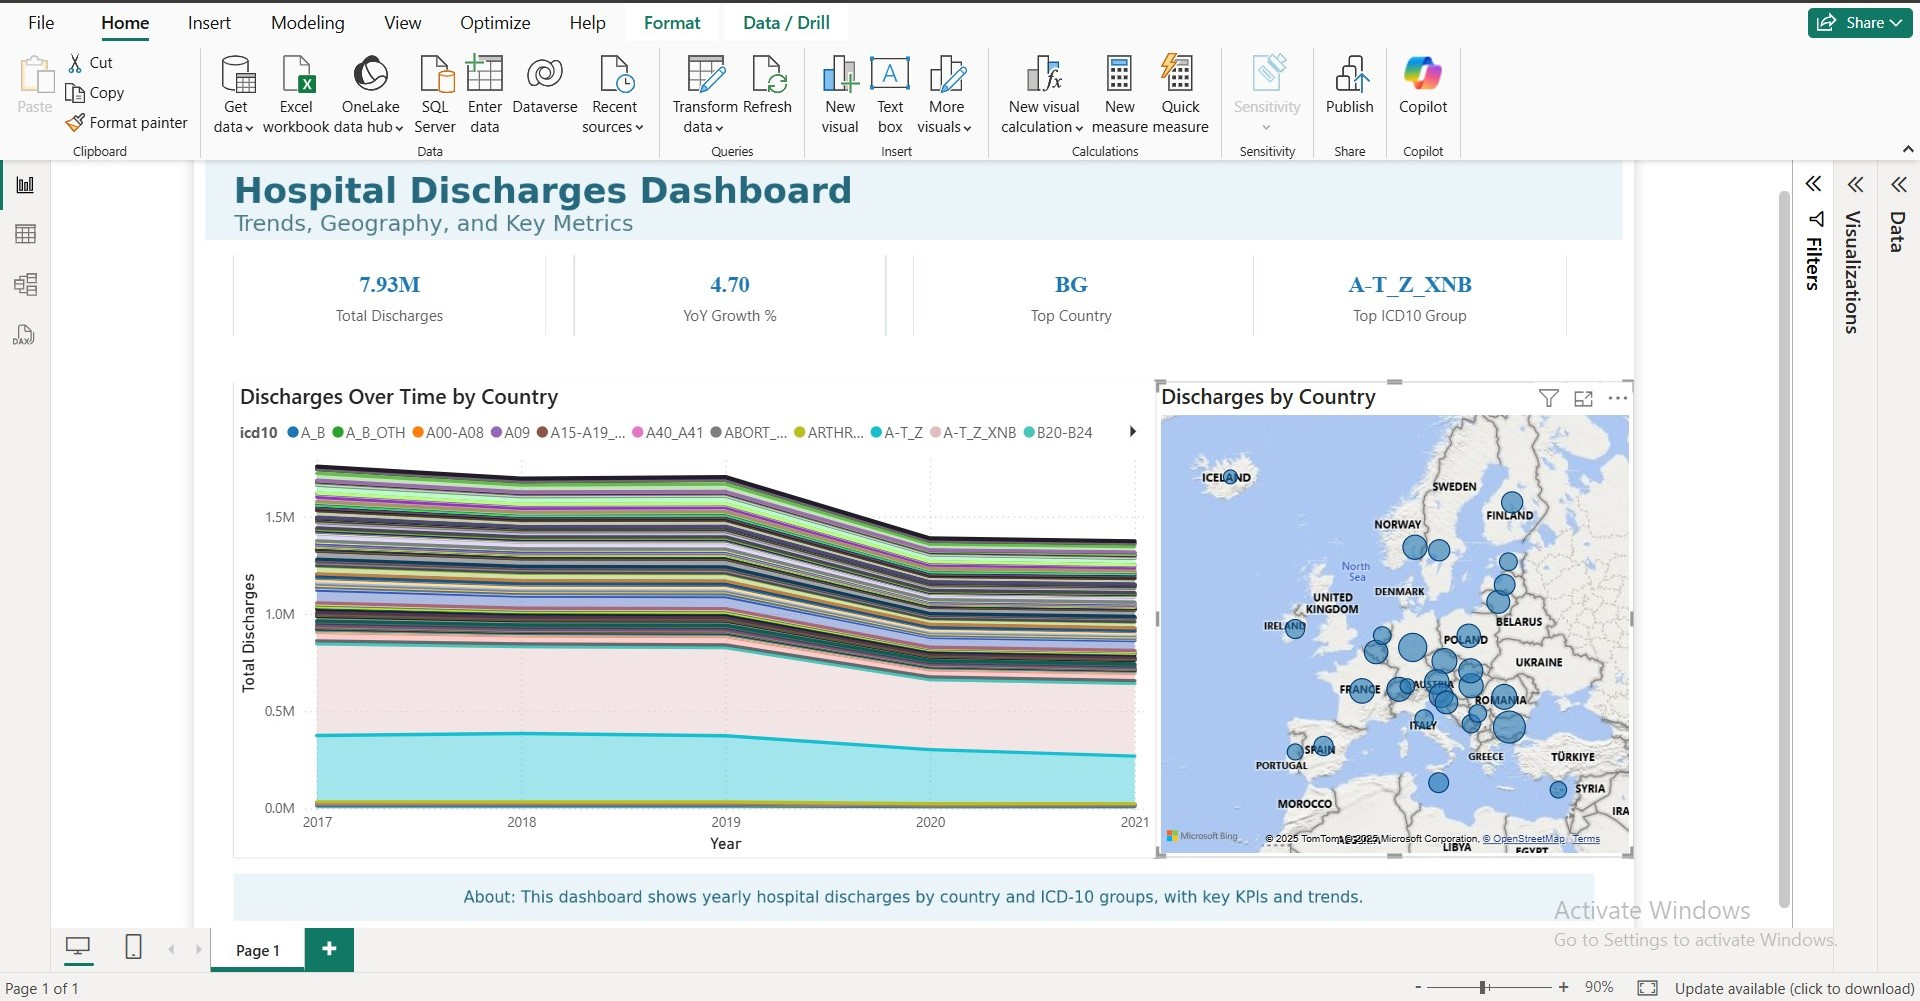

Layout of this report page (visuals, bound fields, positions):
{"tool":"powerbi","page":{"name":"Page 1","canvas":[1280,720],"ordinal":0},"visuals":[{"type":"card","fields":{"Values":["hospital_discharges_clean.Total Discharges"]},"box":[35.6,98.9,276.7,81.1],"z":0},{"type":"card","fields":{"Values":["hospital_discharges_clean.Top Country"]},"box":[640,98.9,280,81.1],"z":1000},{"type":"card","fields":{"Values":["Date.Top ICD10 Group"]},"box":[942.2,98.9,277.8,81.1],"z":2000},{"type":"card","fields":{"Values":["hospital_discharges_clean.Total Discharges YoY % (quick)"]},"box":[338.9,98.9,275.6,81.1],"z":3000},{"type":"map","title":"Discharges by Country","fields":{"Category":["hospital_discharges_clean.geo"],"Size":["hospital_discharges_clean.Total Discharges"]},"box":[854.4,215.6,425.6,423.3],"z":4000},{"type":"stackedAreaChart","title":"Discharges Over Time by Country","fields":{"Category":["Date.Date.Variation.Date Hierarchy.Year"],"Series":["hospital_discharges_clean.icd10"],"Y":["hospital_discharges_clean.Total Discharges"]},"box":[35.6,215.6,818.9,423.3],"z":5000}]}

Visuals, with their boxes on the page's 1280x720 design canvas (x1, y1, x2, y2). These are canvas units, not pixel positions in the 1920x1001 screenshot, which may show the page scaled, cropped or inside an application window:
card - hospital_discharges_clean.Total Discharges: {"x1": 36, "y1": 99, "x2": 312, "y2": 180}
card - hospital_discharges_clean.Top Country: {"x1": 640, "y1": 99, "x2": 920, "y2": 180}
card - Date.Top ICD10 Group: {"x1": 942, "y1": 99, "x2": 1220, "y2": 180}
card - hospital_discharges_clean.Total Discharges YoY % (quick): {"x1": 339, "y1": 99, "x2": 614, "y2": 180}
"Discharges by Country" map: {"x1": 854, "y1": 216, "x2": 1280, "y2": 639}
"Discharges Over Time by Country" stackedAreaChart: {"x1": 36, "y1": 216, "x2": 854, "y2": 639}
